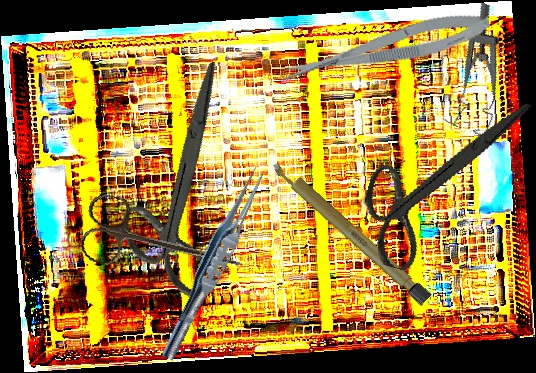Iris Scissors: (78, 61, 292, 312), (348, 68, 532, 292), (77, 191, 252, 295)
Micro Scissor: (276, 5, 494, 89)
Scalpel Handle: (269, 156, 433, 307)
Speculum: (433, 1, 532, 139)
Tissue Forceps: (156, 161, 272, 365)
